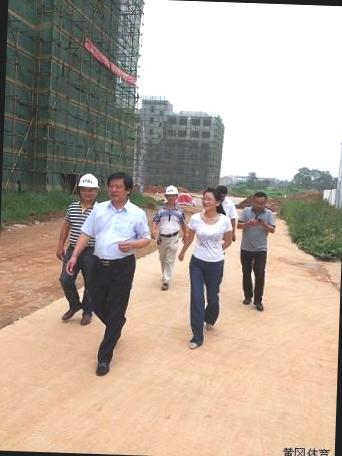no_helmet: (105, 170, 135, 204), (198, 185, 220, 212), (251, 188, 272, 214)
